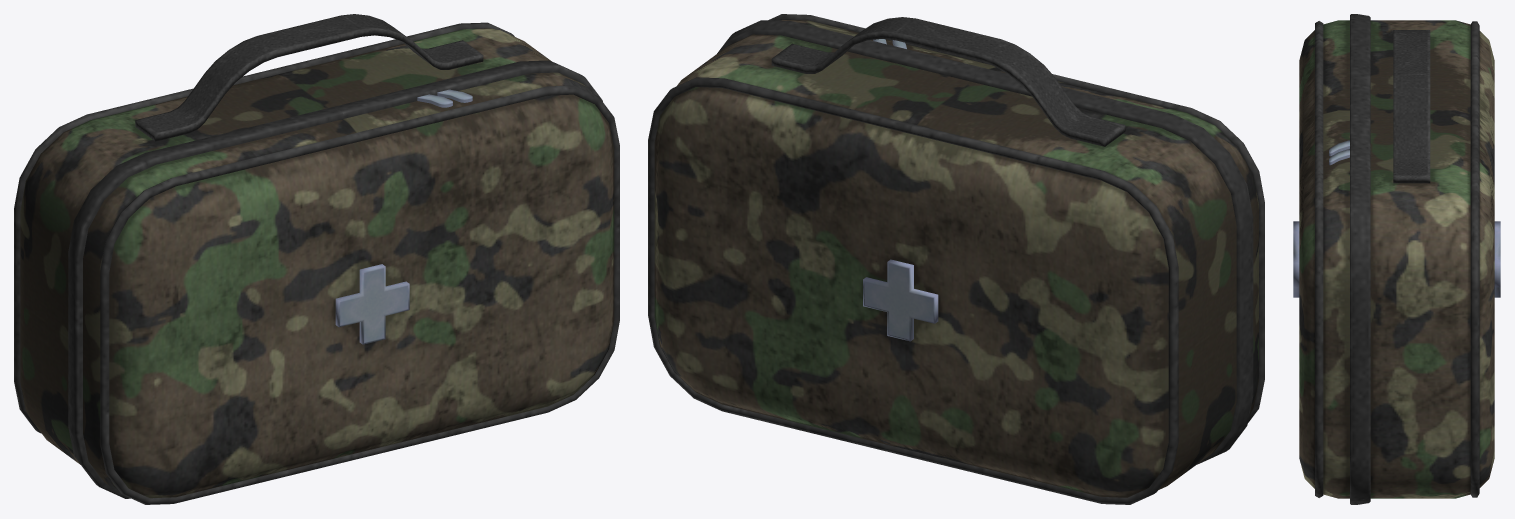
The model's file is medicine_pouch.glb.
The picture shows the model from 3 angles, left to right: view 1: azimuth 30°, elevation 25°; view 2: azimuth 150°, elevation 25°; view 3: azimuth 270°, elevation 25°; orthographic projection. The views are drawn at different scales.
Parts seen in each view (by area): view 1: Circle.011; view 2: Circle.011; view 3: Circle.011.
Boxes of the visible parts, <box> form: Circle.011: <box>14,14,619,504</box>; Circle.011: <box>648,14,1264,504</box>; Circle.011: <box>1293,14,1500,504</box>.
Bounding box in the file's own units: 0.7803 × 0.5529 × 0.2885.
Materials: 1 (1 with a texture image).
